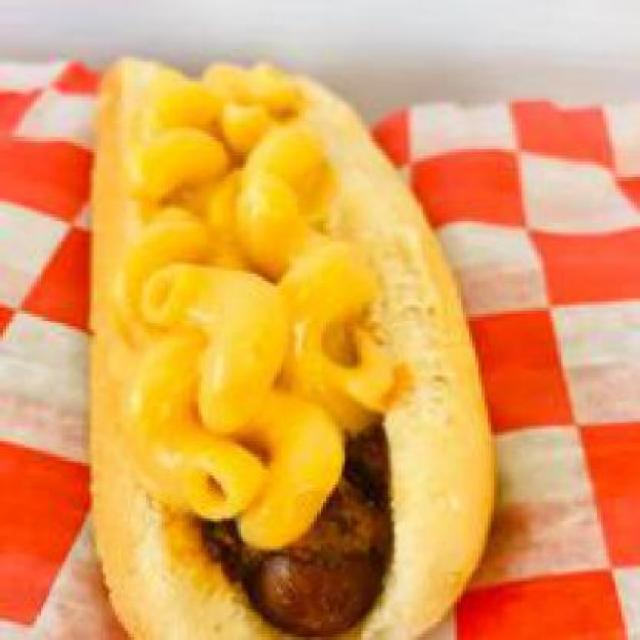hot dog: (212, 475, 398, 637)
macaroni and cheese: (115, 59, 392, 516)
